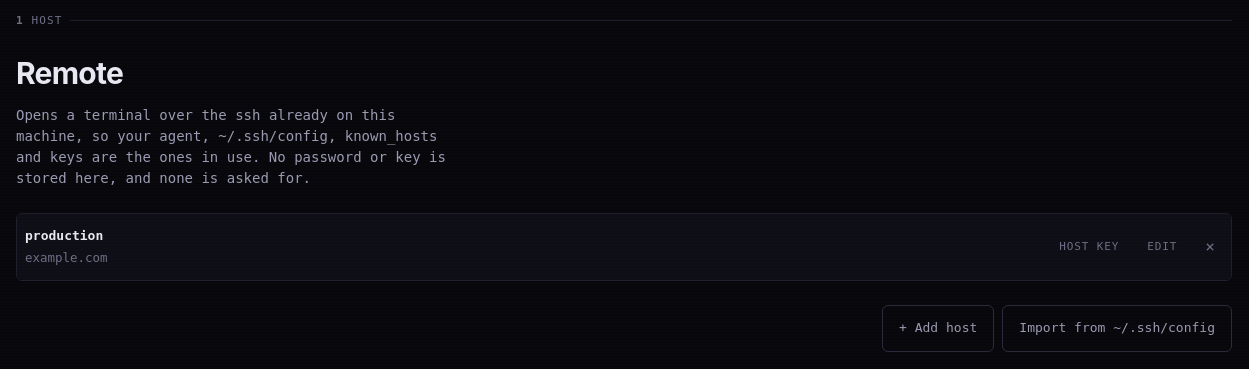
Scenario: the remote section › forgets a host
This screenshot has width=1249, height=369.
Step 1. Click the button named "Forget production" → click(1210, 247), box [1197,234,1223,260]
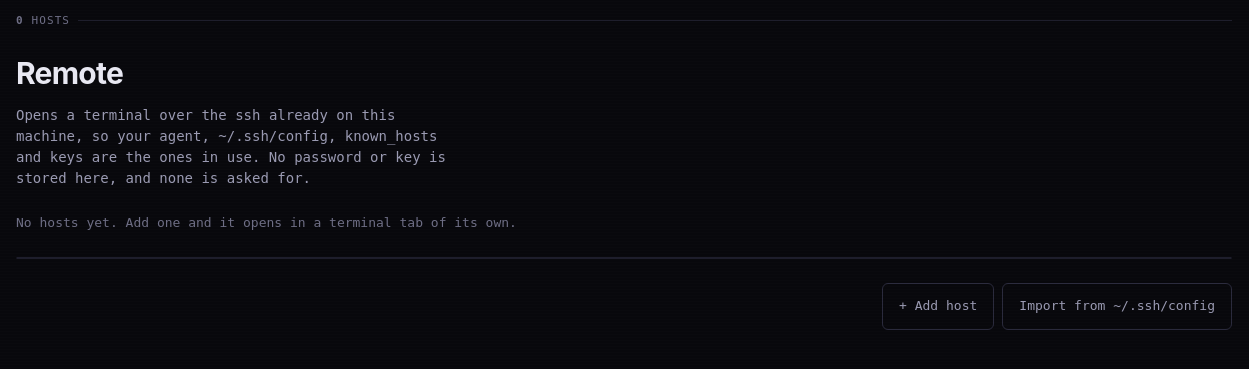
Expected: the button "production" is gone
